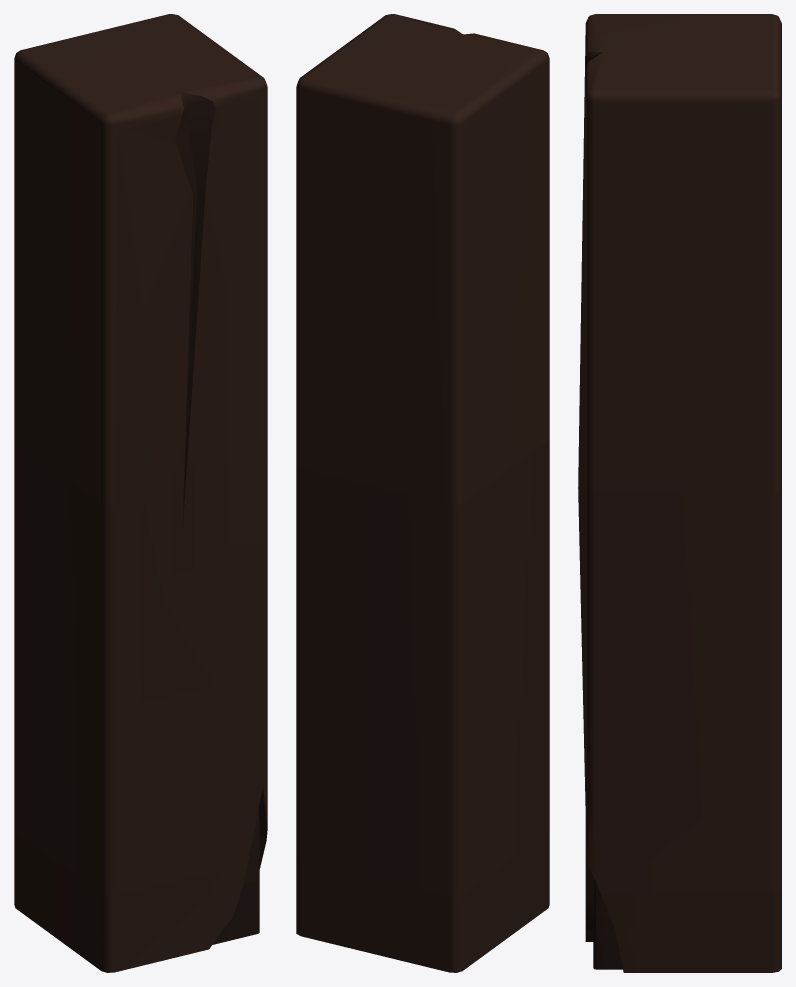
The model's file is SM_Column01.fbx.
3 views of the same model, side by side, from view 1: azimuth 30°, elevation 25°; view 2: azimuth 150°, elevation 25°; view 3: azimuth 270°, elevation 25° (orthographic). The views are drawn at different scales.
Visible parts, largest first — view 1: SM_Column01; view 2: SM_Column01; view 3: SM_Column01.
Boxes of the visible parts, x1,y1,x2,y2 form: SM_Column01: [14, 14, 267, 972]; SM_Column01: [296, 14, 549, 972]; SM_Column01: [578, 14, 781, 972].
Size of the model in its own units: 25 by 124 by 25.96.
